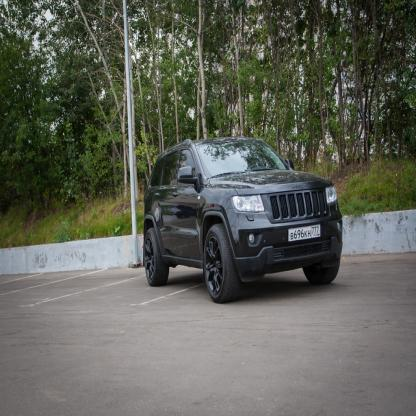Car: (144, 140, 344, 305)
